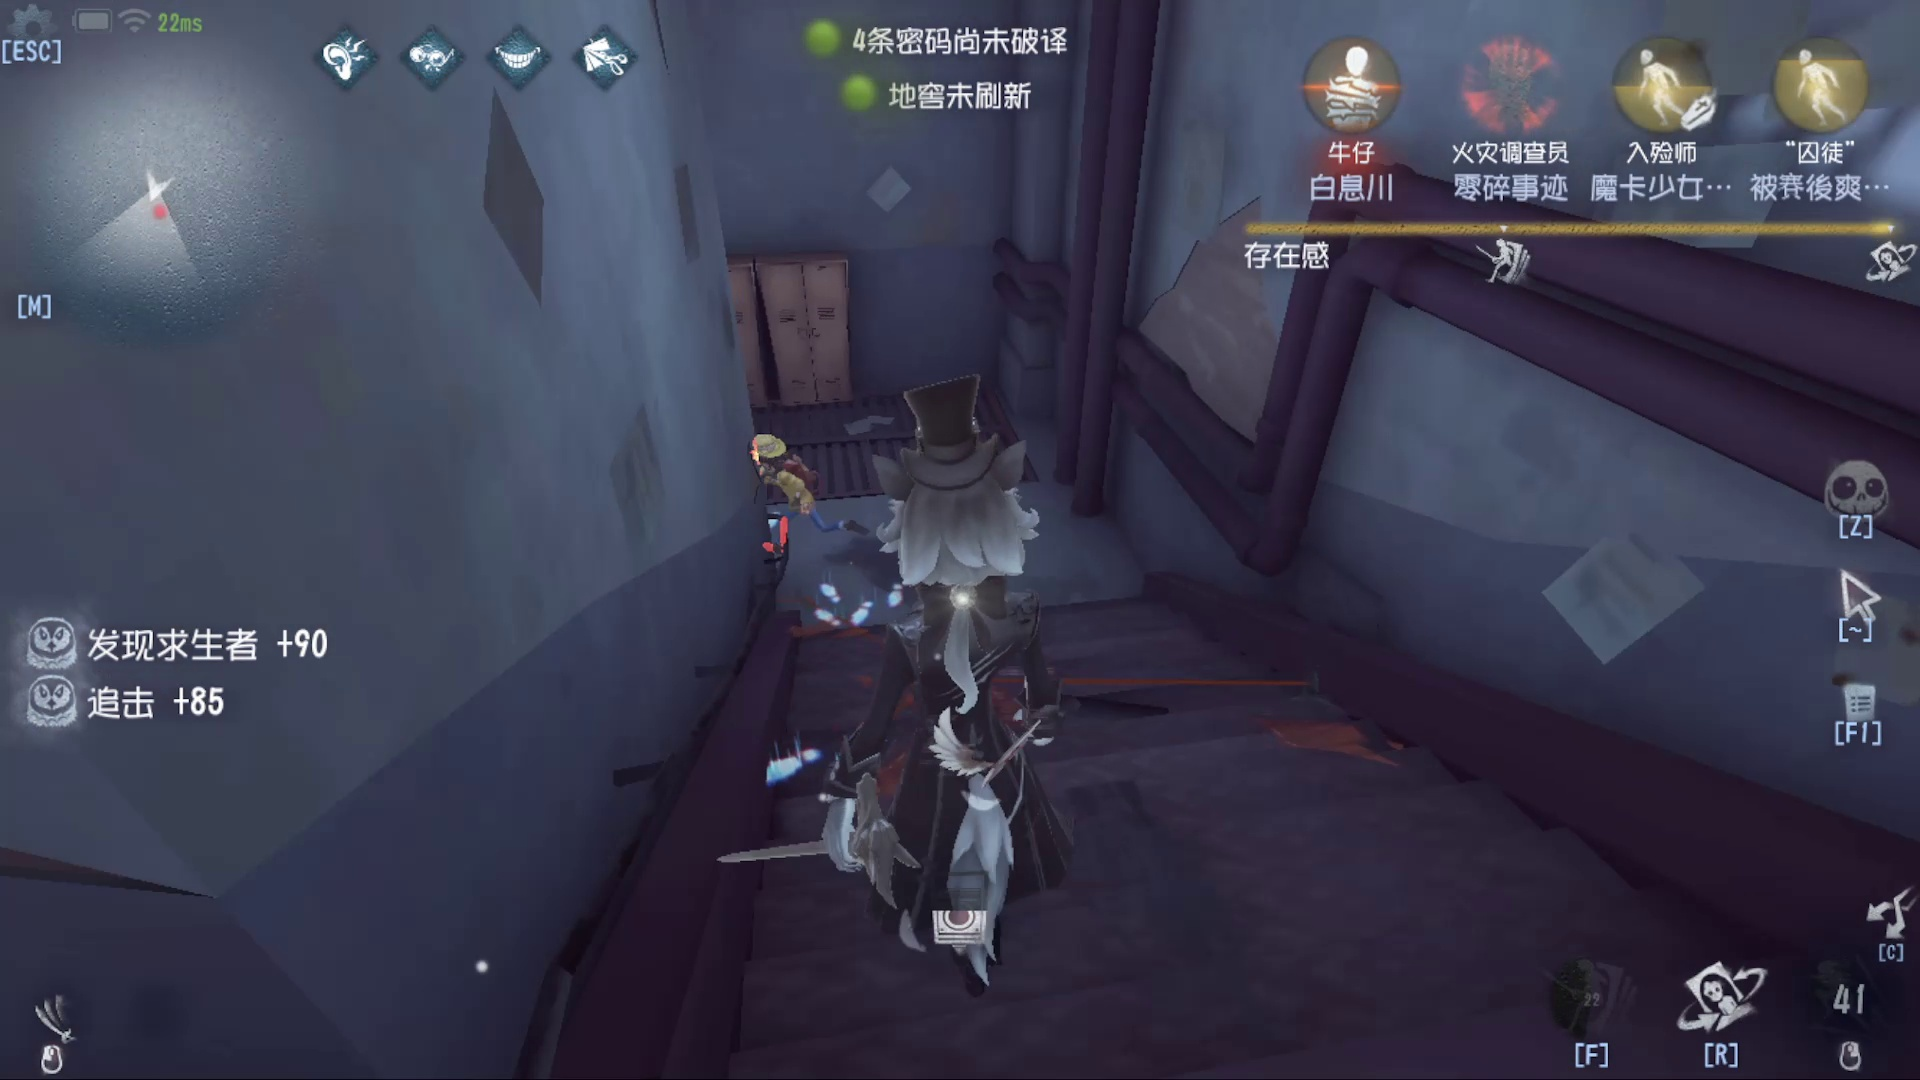求生者: (735, 413, 835, 553)
